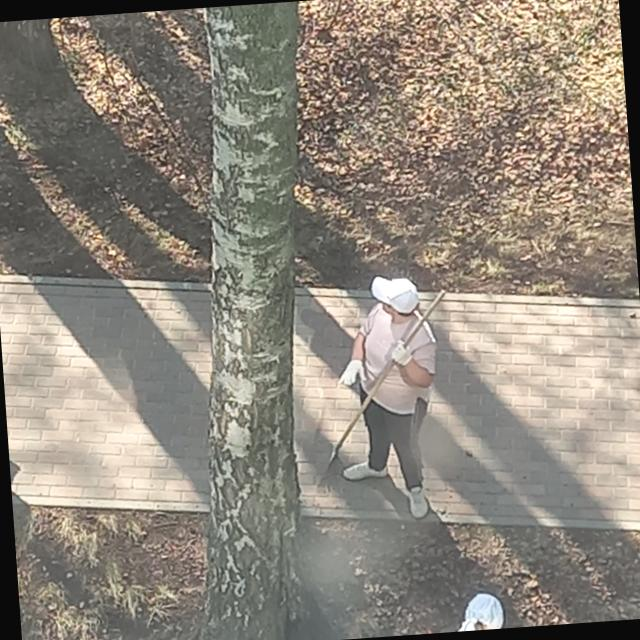person: (329, 272, 448, 522)
